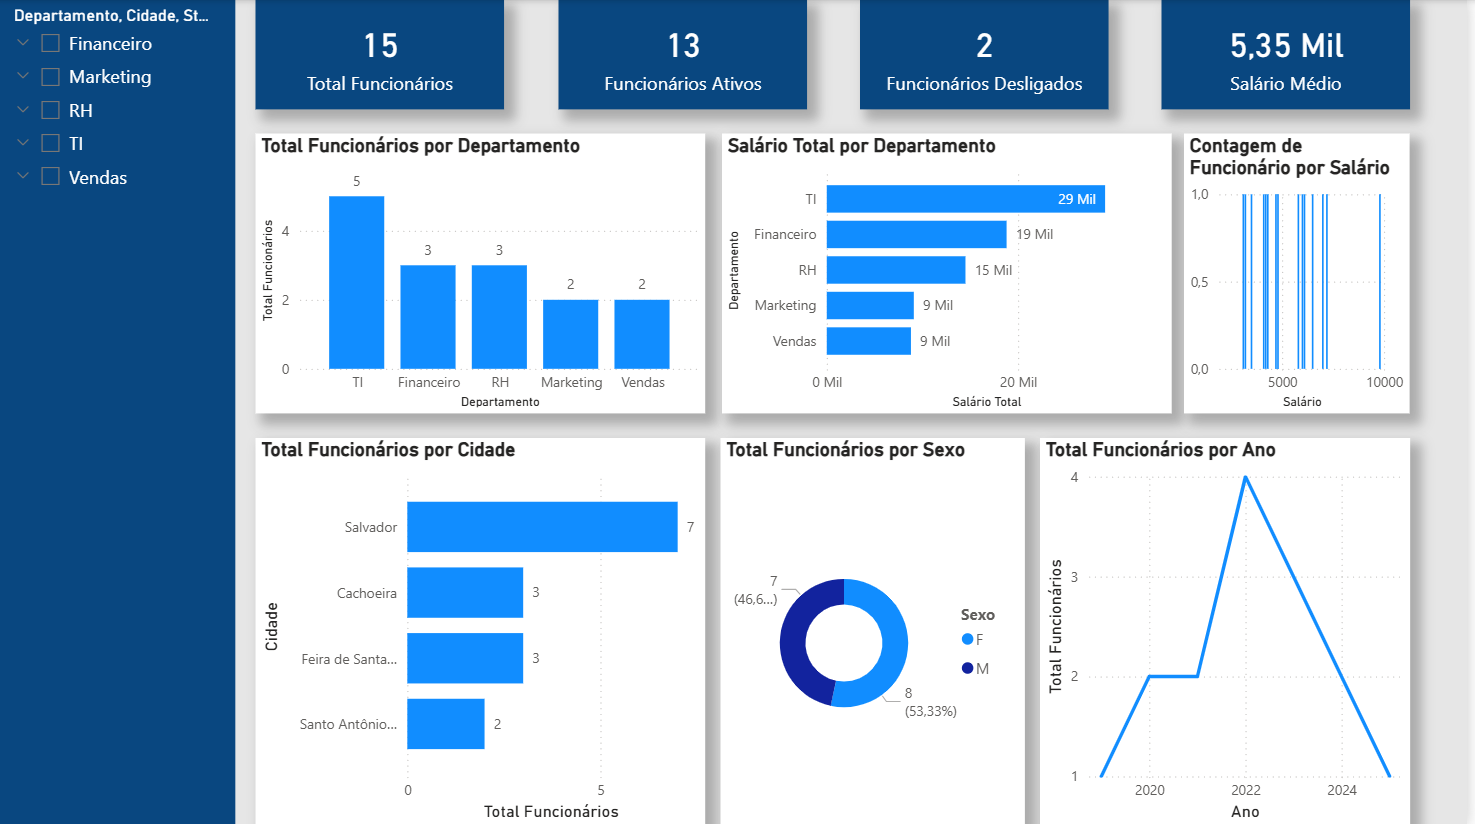

This screenshot's page, from the dashboard's own definition file:
{"tool":"powerbi","page":{"name":"Página 1","canvas":[1280,720],"ordinal":0},"visuals":[{"type":"card","fields":{"Values":["RecursosRH.Total Funcionários"]},"box":[224.1,0,216.5,95.4],"z":0},{"type":"card","fields":{"Values":["RecursosRH.Funcionários Ativos"]},"box":[487.1,0,216.5,95.4],"z":1000},{"type":"card","fields":{"Values":["RecursosRH.Salário Médio"]},"box":[1013,0,216.5,95.4],"z":2000},{"type":"card","fields":{"Values":["RecursosRH.Funcionários Desligados"]},"box":[750,0,216.5,95.4],"z":3000},{"type":"clusteredColumnChart","fields":{"Y":["RecursosRH.Total Funcionários"],"Category":["RecursosRH.Departamento"]},"box":[224.1,116.6,392.2,243.8],"z":4000},{"type":"clusteredBarChart","fields":{"Category":["RecursosRH.Departamento"],"Y":["RecursosRH.Salário Total"]},"box":[629.9,116.6,392.2,243.8],"z":5000},{"type":"clusteredBarChart","fields":{"Category":["RecursosRH.Cidade"],"Y":["RecursosRH.Total Funcionários"]},"box":[224.1,381.6,392.2,337.7],"z":6000},{"type":"donutChart","fields":{"Category":["RecursosRH.Sexo"],"Y":["RecursosRH.Total Funcionários"]},"box":[629.5,381.5,265.6,337.5],"z":7000},{"type":"clusteredColumnChart","fields":{"Category":["RecursosRH.Salário"],"Y":["CountNonNull(RecursosRH.Funcionário)"]},"box":[1032.7,116.6,196.8,243.8],"z":8000},{"type":"lineChart","fields":{"Category":["RecursosRH.Data Admissão.Variation.Hierarquia de datas.Ano","RecursosRH.Data Admissão.Variation.Hierarquia de datas.Trimestre","RecursosRH.Data Admissão.Variation.Hierarquia de datas.Mês","RecursosRH.Data Admissão.Variation.Hierarquia de datas.Dia"],"Y":["RecursosRH.Total Funcionários"]},"box":[907,381.6,322.5,337.7],"z":9000},{"type":"slicer","fields":{"Values":["RecursosRH.Departamento","RecursosRH.Cidade","RecursosRH.Status"]},"box":[0,0,205.9,719.2],"z":10000}]}

Visuals, with their boxes in screenshot pixels (x1, y1, x2, y2):
card - RecursosRH.Total Funcionários: [232, 0, 486, 108]
card - RecursosRH.Funcionários Ativos: [541, 0, 794, 108]
card - RecursosRH.Salário Médio: [1157, 0, 1411, 108]
card - RecursosRH.Funcionários Desligados: [849, 0, 1103, 108]
clusteredColumnChart - RecursosRH.Total Funcionários x RecursosRH.Departamento: [232, 133, 692, 419]
clusteredBarChart - RecursosRH.Departamento x RecursosRH.Salário Total: [708, 133, 1168, 419]
clusteredBarChart - RecursosRH.Cidade x RecursosRH.Total Funcionários: [232, 444, 692, 823]
donutChart - RecursosRH.Sexo x RecursosRH.Total Funcionários: [708, 444, 1019, 823]
clusteredColumnChart - RecursosRH.Salário x CountNonNull(RecursosRH.Funcionário): [1180, 133, 1411, 419]
lineChart - RecursosRH.Data Admissão.Variation.Hierarquia de datas.Ano x RecursosRH.Data Admissão.Variation.Hierarquia de datas.Trimestre: [1033, 444, 1411, 823]
slicer - RecursosRH.Departamento x RecursosRH.Cidade: [0, 0, 211, 823]
